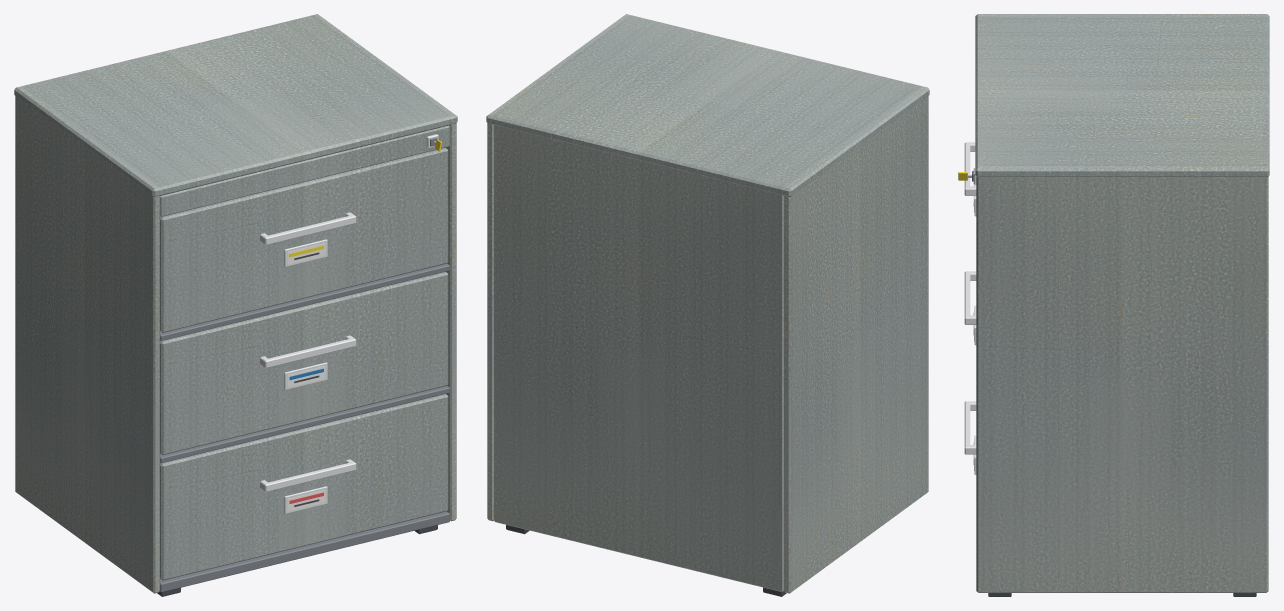
The model's file is cassettiera_chiusa.fbx.
3 renders of one model, left to right at view 1: azimuth 30°, elevation 25°; view 2: azimuth 150°, elevation 25°; view 3: azimuth 270°, elevation 25°, orthographic. The views are drawn at different scales.
Visible parts, largest first — view 1: Chiusa_Fianco_SX, Chiusa_Top, Chiusa_Cassetto_3_Basso_Frontale, Chiusa_Cassetto_1_Alto_Frontale, Chiusa_Cassetto_2_Medio_Frontale, Chiusa_Fascia_Serratura_Alta, Chiusa_Fianco_DX, Chiusa_Base, Chiusa_Traversa_Frontale_1_2, Chiusa_Traversa_Frontale_2_3, Chiusa_Cassetto_3_Basso_Maniglia_Barra, Chiusa_Cassetto_1_Alto_Maniglia_Barra (+2 smaller); view 2: Chiusa_Schienale, Chiusa_Fianco_SX, Chiusa_Top, Chiusa_Fianco_DX; view 3: Chiusa_Fianco_DX, Chiusa_Top, Chiusa_Schienale, Chiusa_Fianco_SX.
Part boxes in pixels (left/top/right/bottom): Chiusa_Fianco_SX: left=15, top=86, right=159, bottom=593; Chiusa_Top: left=14, top=14, right=457, bottom=196; Chiusa_Cassetto_3_Basso_Frontale: left=160, top=394, right=448, bottom=580; Chiusa_Cassetto_1_Alto_Frontale: left=160, top=147, right=448, bottom=332; Chiusa_Cassetto_2_Medio_Frontale: left=160, top=271, right=448, bottom=454; Chiusa_Fascia_Serratura_Alta: left=160, top=125, right=449, bottom=216; Chiusa_Fianco_DX: left=314, top=14, right=456, bottom=521; Chiusa_Base: left=159, top=511, right=449, bottom=592; Chiusa_Traversa_Frontale_1_2: left=160, top=263, right=449, bottom=340; Chiusa_Traversa_Frontale_2_3: left=160, top=386, right=449, bottom=463; Chiusa_Cassetto_3_Basso_Maniglia_Barra: left=264, top=461, right=356, bottom=491; Chiusa_Cassetto_1_Alto_Maniglia_Barra: left=263, top=215, right=356, bottom=244; Chiusa_Schienale: left=494, top=115, right=784, bottom=591; Chiusa_Fianco_SX: left=784, top=86, right=928, bottom=593; Chiusa_Top: left=486, top=14, right=929, bottom=196; Chiusa_Fianco_DX: left=487, top=14, right=629, bottom=521; Chiusa_Fianco_DX: left=976, top=166, right=1268, bottom=592; Chiusa_Top: left=975, top=14, right=1269, bottom=176; Chiusa_Schienale: left=1262, top=17, right=1268, bottom=165; Chiusa_Fianco_SX: left=978, top=14, right=1266, bottom=16.
Bounding box in the file's own units: 78.4 × 102 × 66.
